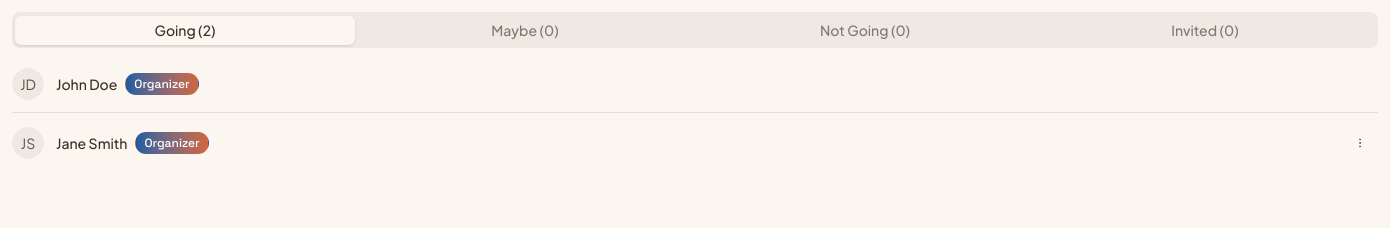
MembersList › co-organizer role management › shows demote option for co-organizer member
Click the button named "Actions for Jane Smith".
click(1360, 143)  # box [1342, 125, 1378, 161]
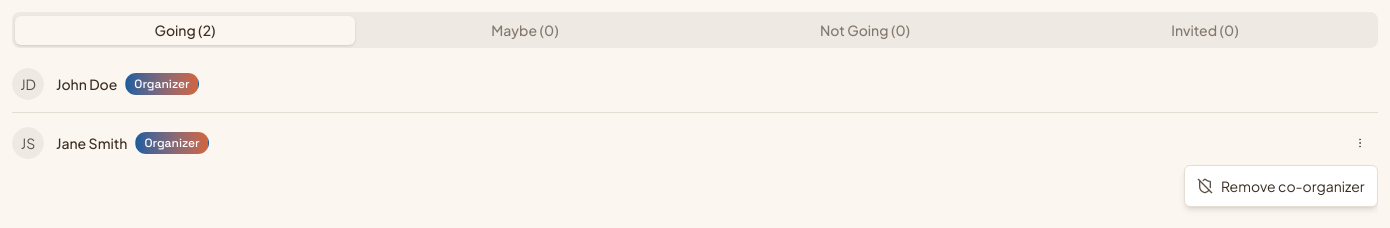
expect the menu item "Remove co-organizer" is shown: met, box [1197, 177, 1365, 195]
